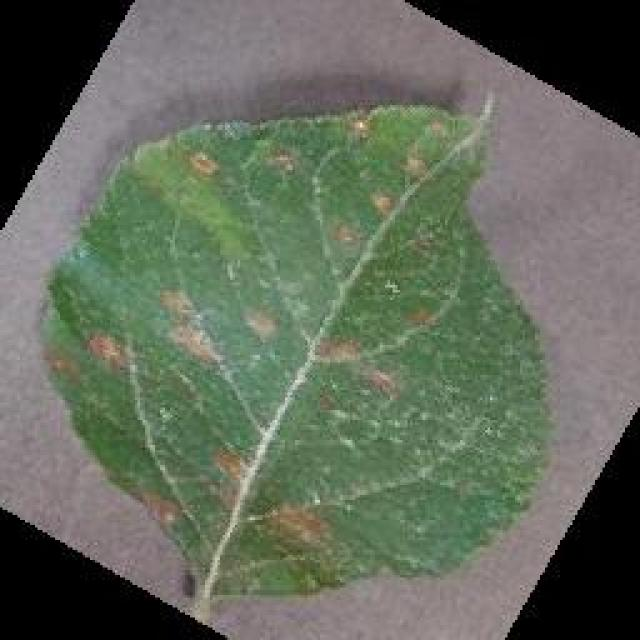apple cedar apple rust: (38, 90, 558, 615)
